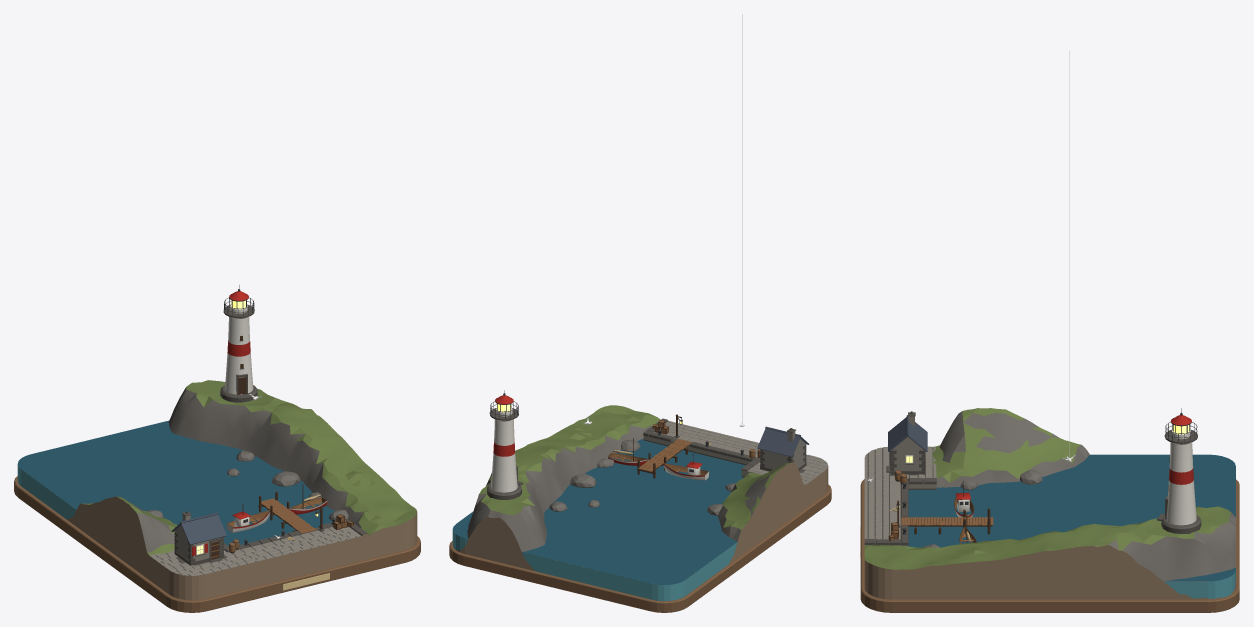
The model's file is harbor_diorama.glb.
The picture shows the model from 3 angles, left to right: view 1: azimuth 30°, elevation 25°; view 2: azimuth 150°, elevation 25°; view 3: azimuth 270°, elevation 25°; orthographic projection. The views are drawn at different scales.
Visible parts, largest first — view 1: Sea, Headland, SectionLand, PlinthBase, Quay, Lighthouse, Cottage, WestHill, SectionWater, RocksSea, Jetty, BoatA; view 2: Sea, Headland, SectionLand, PlinthBase, SectionWater, Quay, Lighthouse, WestHill, Cottage, RocksSea, Jetty, BoatA; view 3: Sea, SectionLand, Headland, WestHill, PlinthBase, Quay, Lighthouse, Cottage, SectionWater, Jetty.
Part boxes in pixels (x1,y1,x2,y2): Sea: (18,420,334,545); Headland: (168,380,416,535); SectionLand: (67,496,417,600); PlinthBase: (14,476,420,612); Quay: (150,519,367,576); Lighthouse: (220,285,257,402); Cottage: (171,511,226,565); WestHill: (82,496,177,555); SectionWater: (17,464,76,519); RocksSea: (146,450,348,521); Jetty: (258,491,316,533); BoatA: (226,503,270,532); Sea: (453,438,745,585); Headland: (467,405,660,551); SectionLand: (455,462,828,570); PlinthBase: (449,484,831,612); SectionWater: (452,529,737,601); Quay: (643,418,828,484); Lighthouse: (487,390,523,499); WestHill: (718,462,804,541); Cottage: (757,426,808,471); RocksSea: (549,440,735,515); Jetty: (637,438,691,478); BoatA: (663,454,709,480); Sea: (908,454,1235,581); SectionLand: (864,545,1235,599); Headland: (864,506,1235,581); WestHill: (932,408,1089,487); PlinthBase: (860,479,1239,612); Quay: (864,446,936,546); Lighthouse: (1157,408,1201,533); Cottage: (886,411,927,474); SectionWater: (1164,570,1235,598); Jetty: (901,508,993,534).
Bounding box in the file's own units: 27.7 × 51.8 × 34.14.
